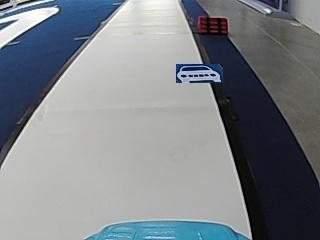bomb: (196, 16, 229, 33)
